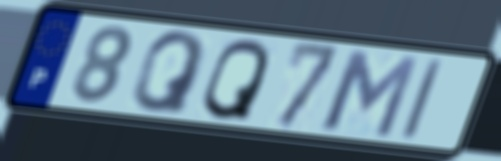7: (279, 38, 344, 133)
8: (71, 24, 136, 106)
I: (397, 56, 448, 144)
M: (318, 46, 423, 141)
Q: (128, 29, 209, 117), (199, 36, 273, 123)
